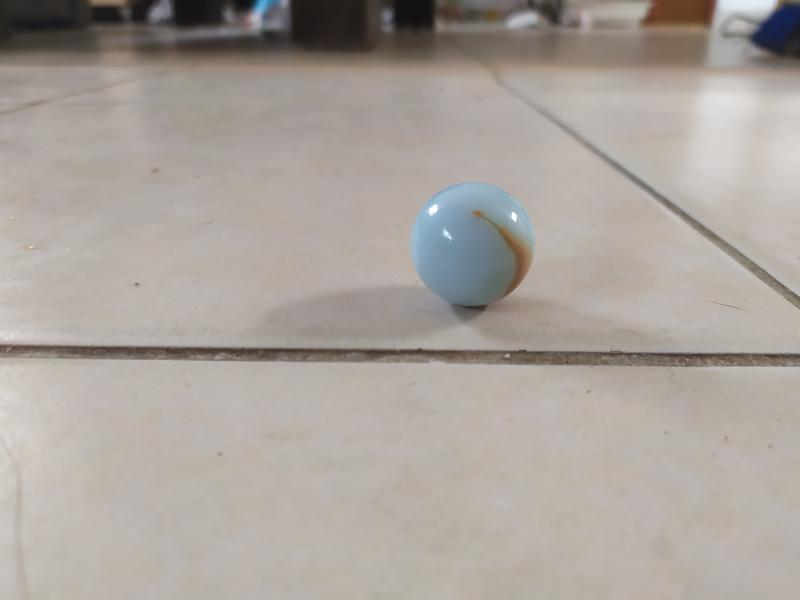Warning: (404, 177, 543, 311)
